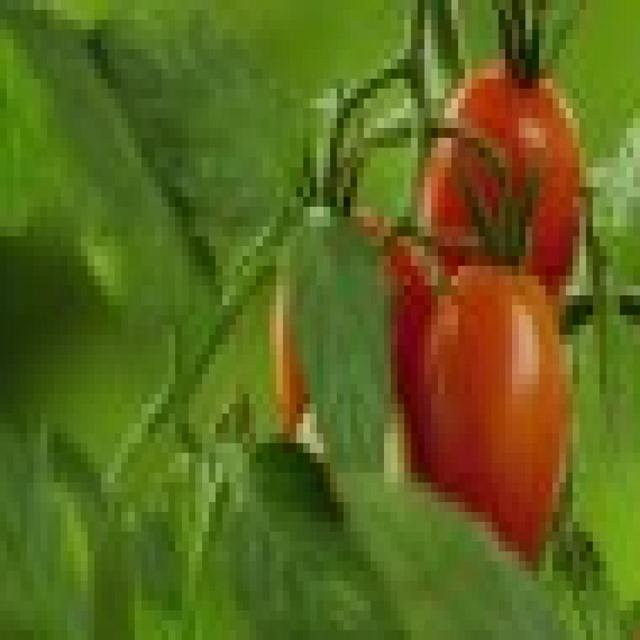Healthy Fruit: (105, 122, 342, 269)
